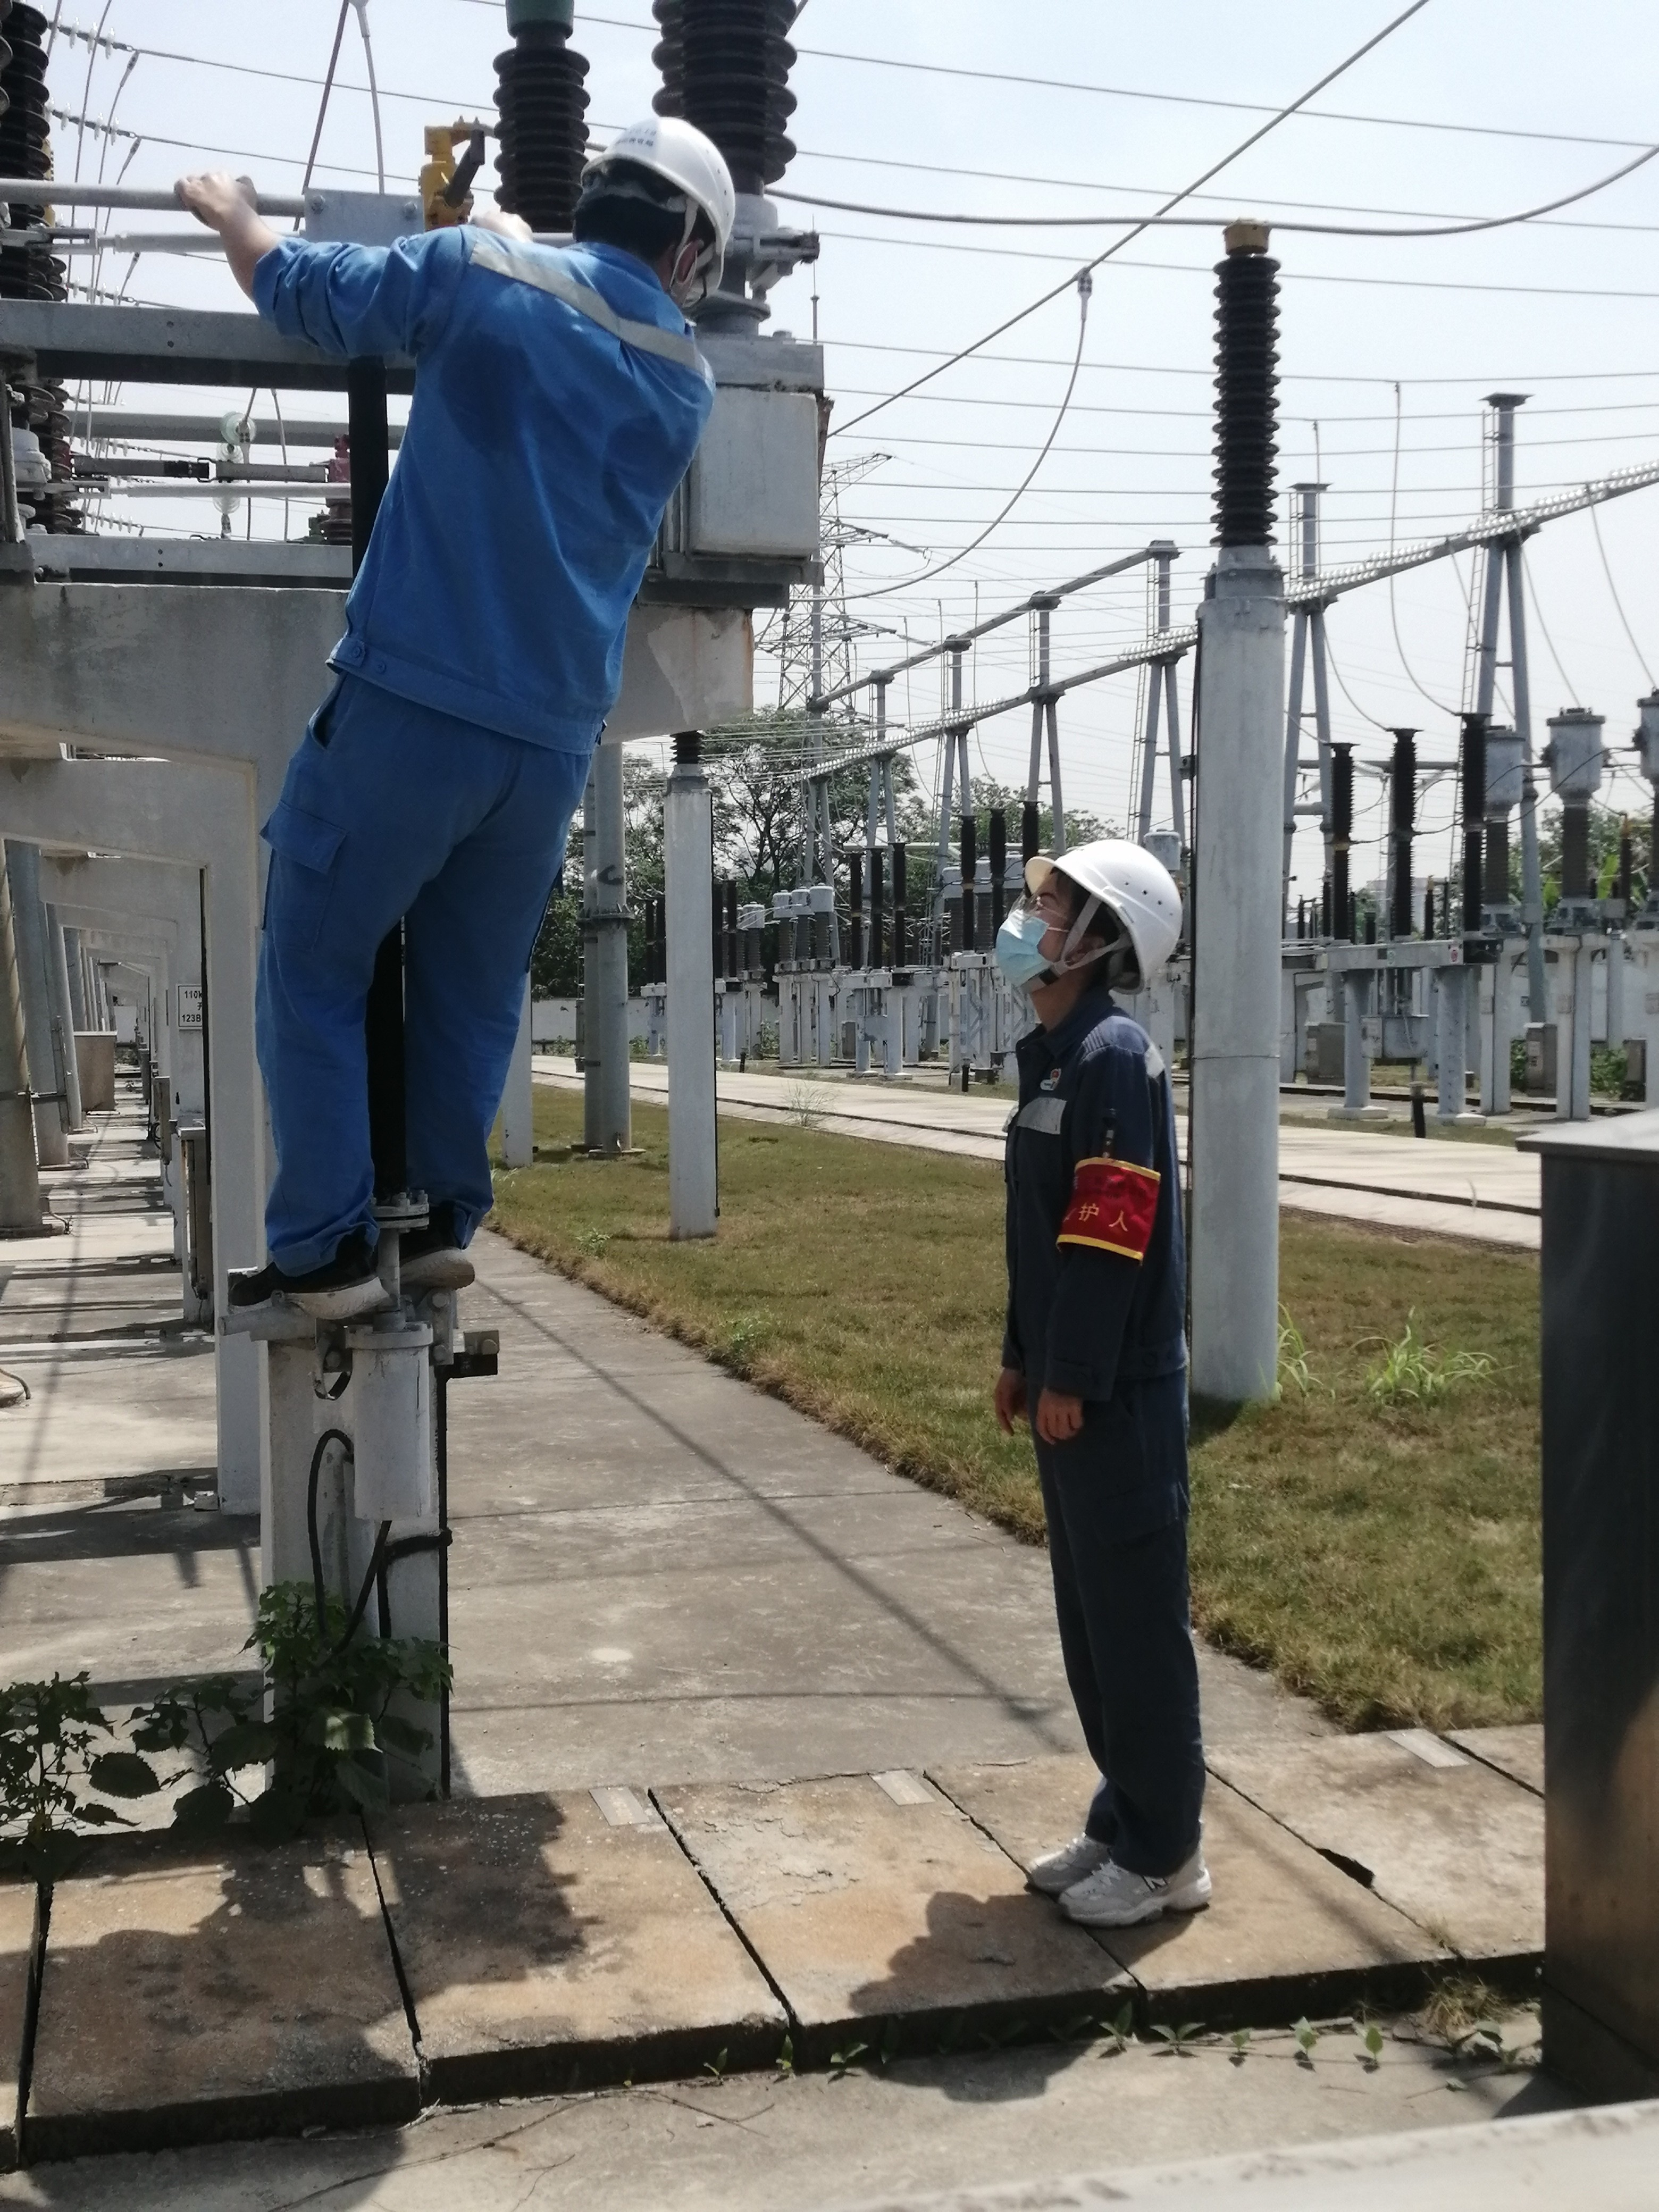downsuit: (230, 765, 617, 1264), (1025, 1418, 1213, 1848)
upsuit: (270, 225, 732, 732), (985, 1000, 1201, 1400)
wrongtop: (173, 158, 317, 312)
